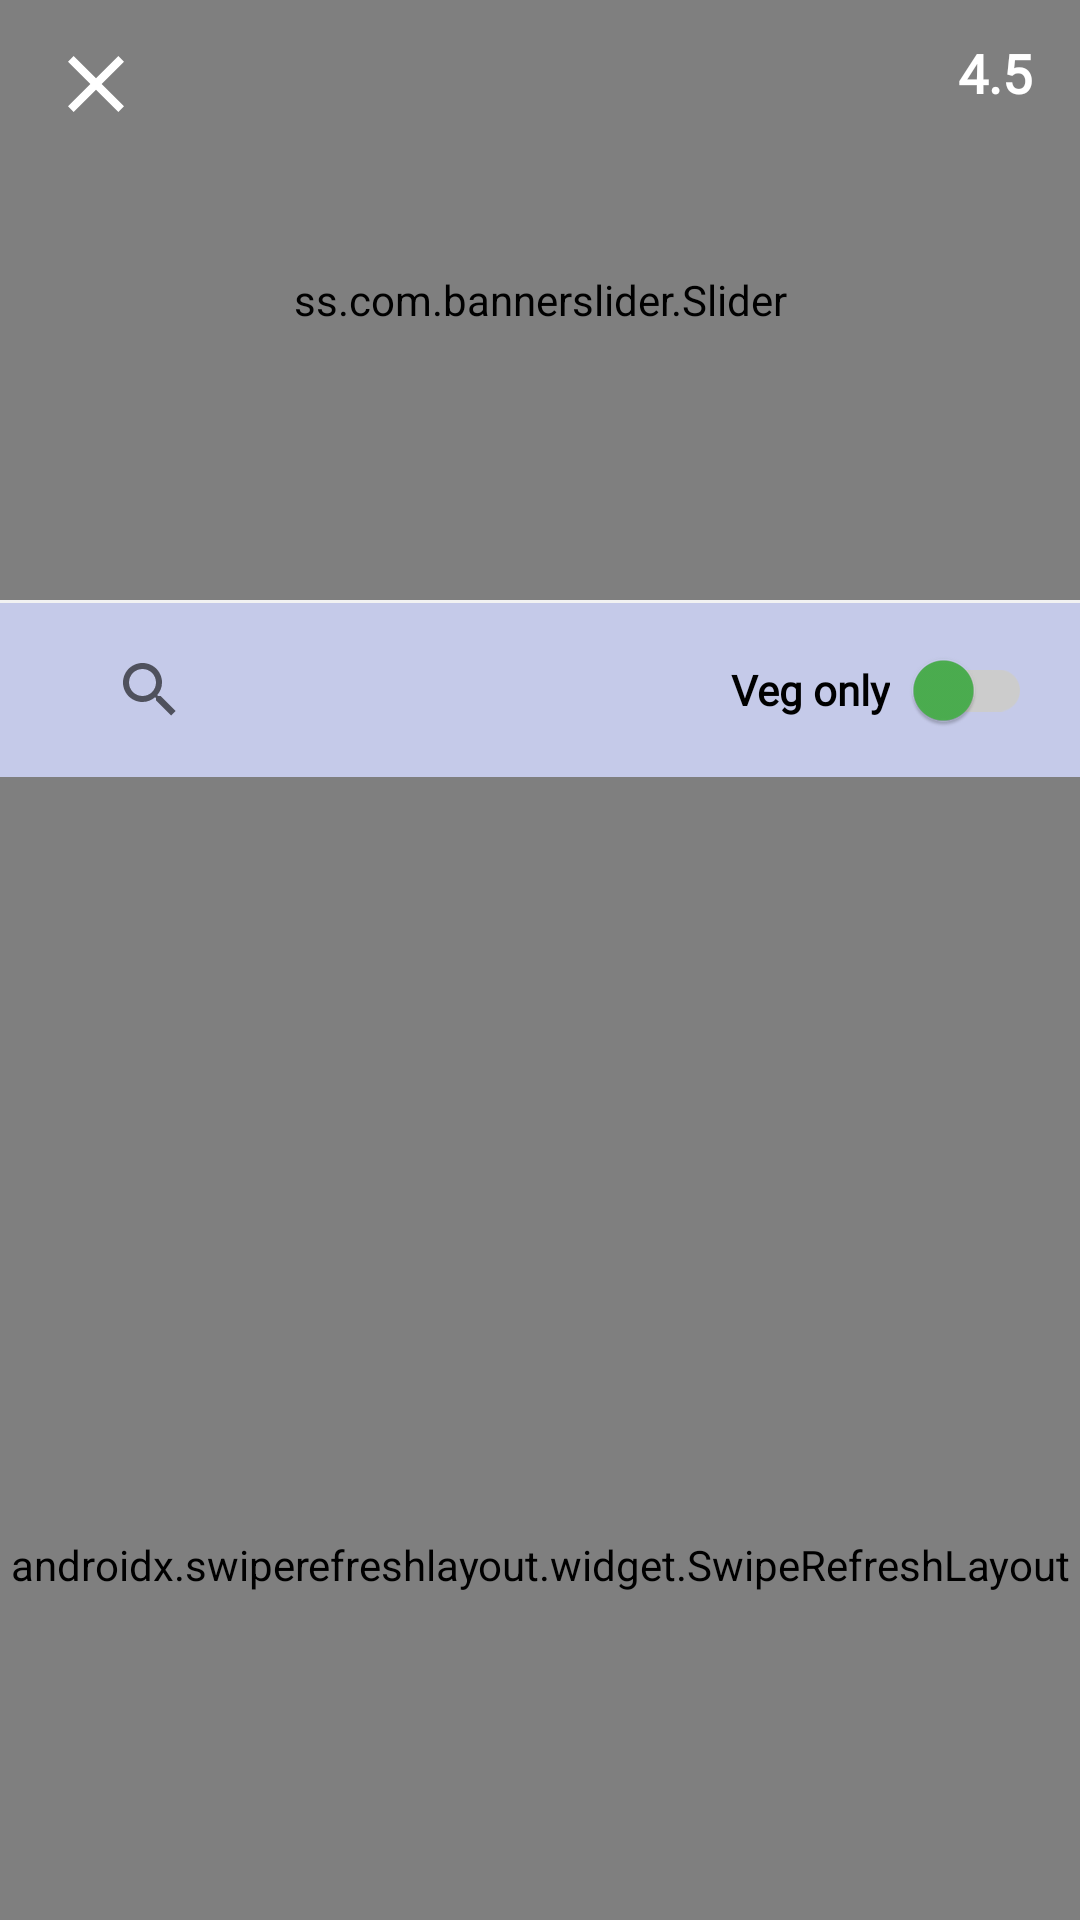

Locate icon controls on the screen. Image size 1080w x 1920h, boxes as (x1, y1, x2, y2).
close: (68, 56, 124, 112)
